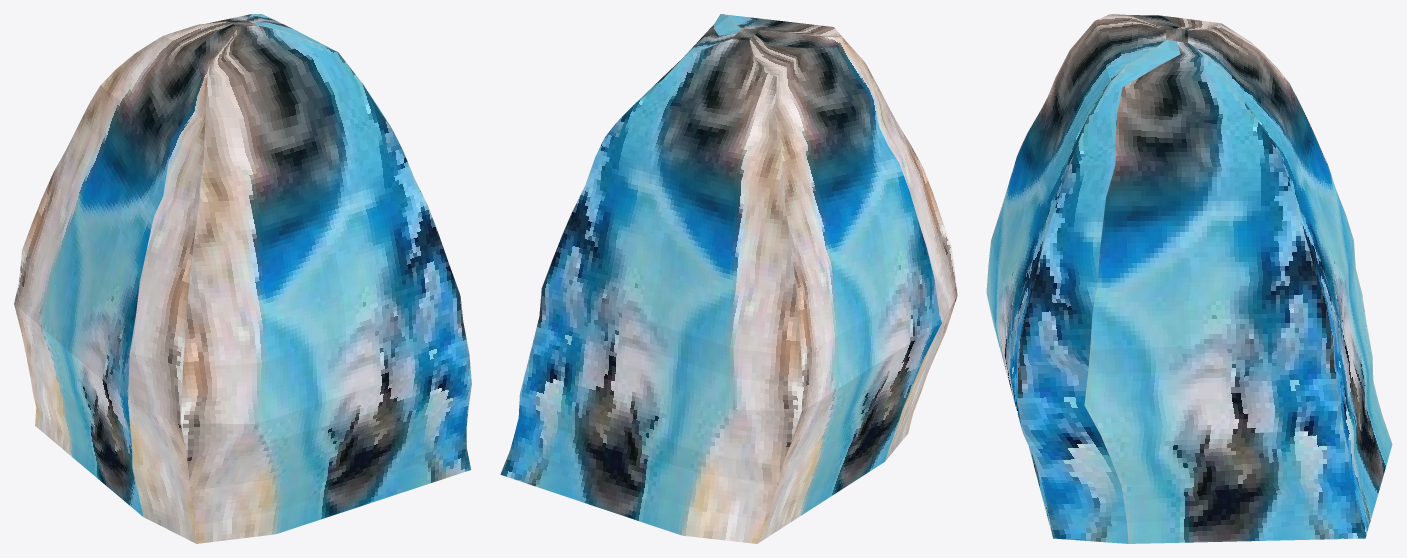
3 renders of one model, left to right at view 1: azimuth 30°, elevation 25°; view 2: azimuth 150°, elevation 25°; view 3: azimuth 270°, elevation 25°, orthographic. The views are drawn at different scales.
Visible parts, largest first — view 1: SPLICE_1.002; view 2: SPLICE_1.002; view 3: SPLICE_1.002.
Boxes of the visible parts, x1,y1,x2,y2 form: SPLICE_1.002: (14,14,471,543); SPLICE_1.002: (500,14,957,543); SPLICE_1.002: (986,14,1392,543).
Size of the model in its own units: 1.22 by 1.54 by 1.3.
1 material, 1 textured.
